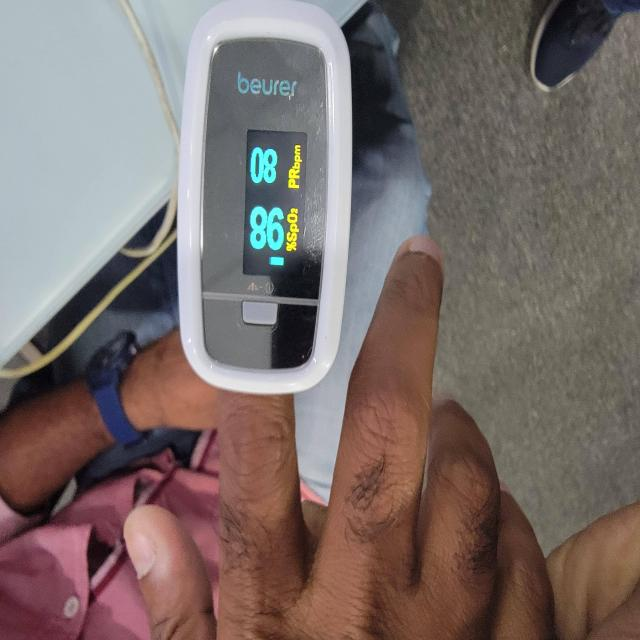spo2: (175, 0, 354, 398)
